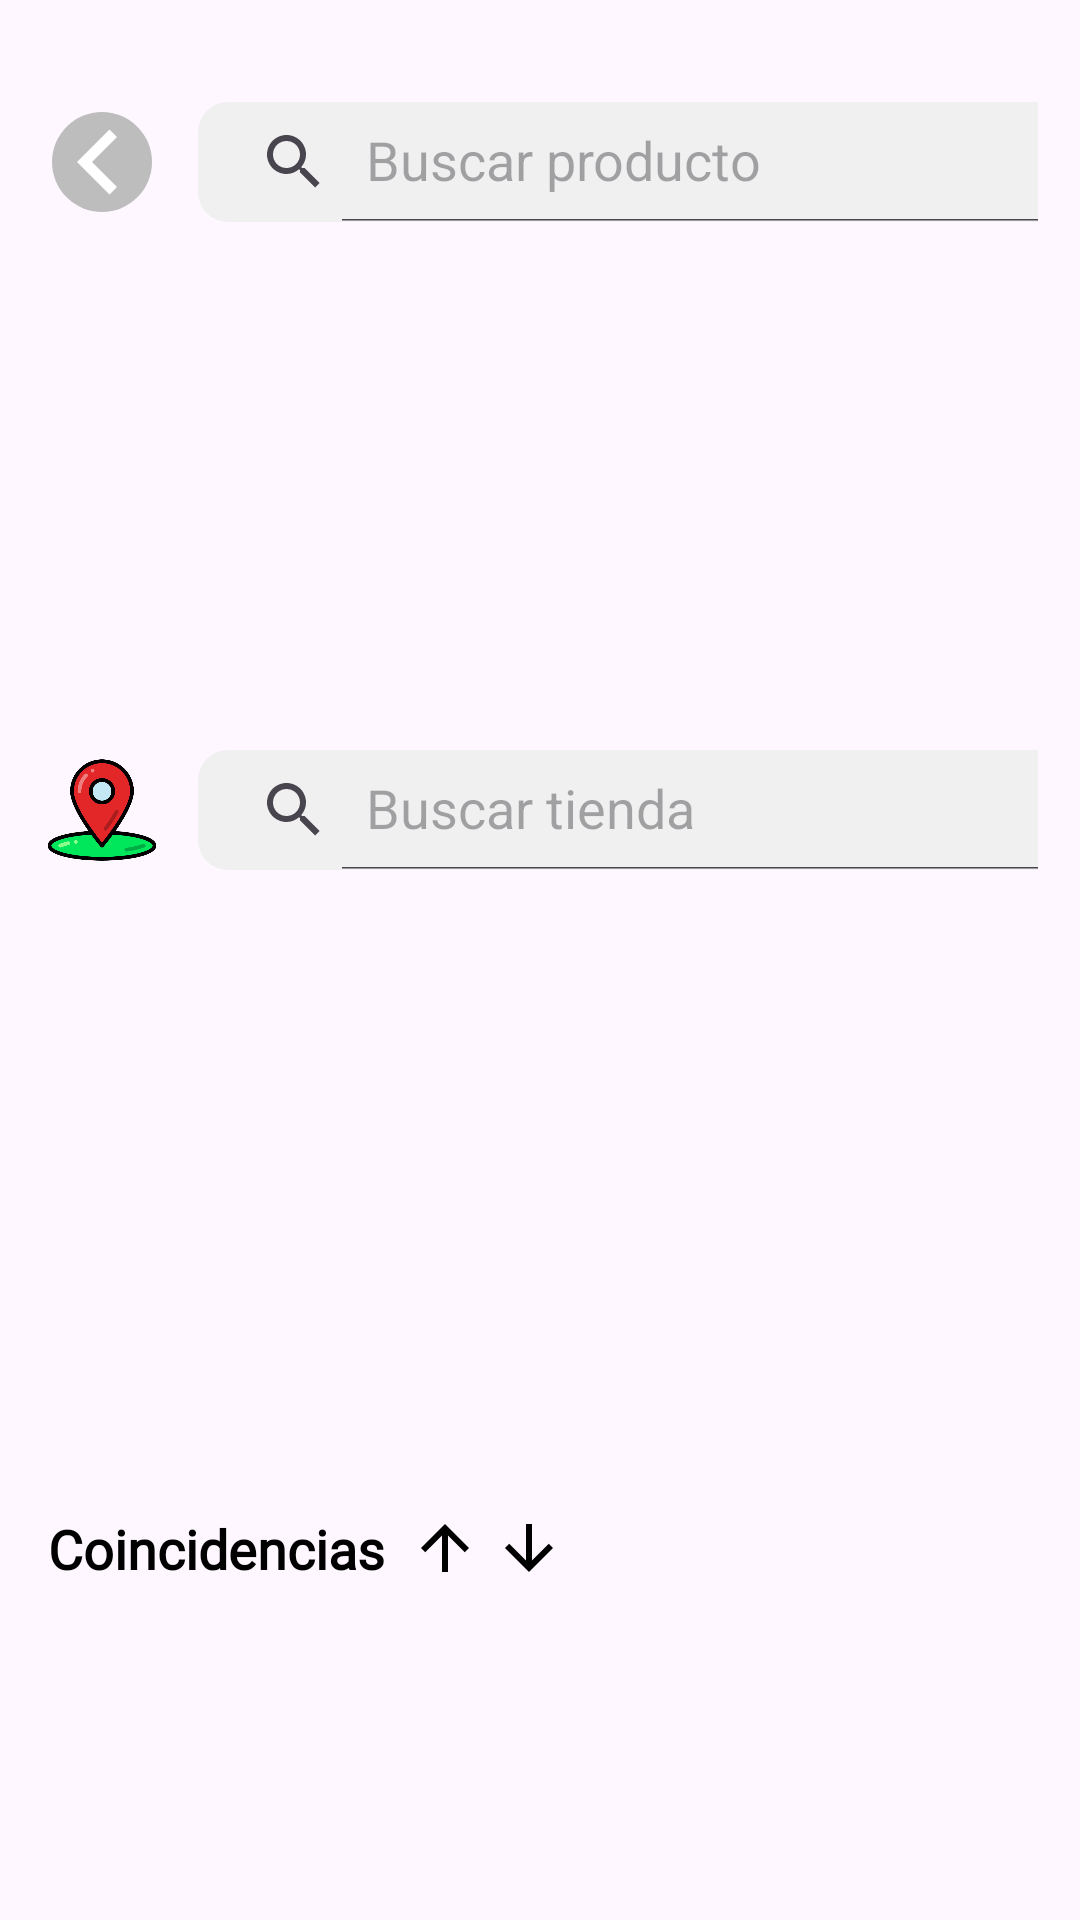

Icons on this 1080*1920 Android screen, each with its box as (x1, y1, x2, y2):
atras: (52, 112, 152, 212)
cerca: (48, 759, 156, 861)
Orden ascendente: (421, 1524, 469, 1572)
Orden descendente: (505, 1524, 553, 1572)
